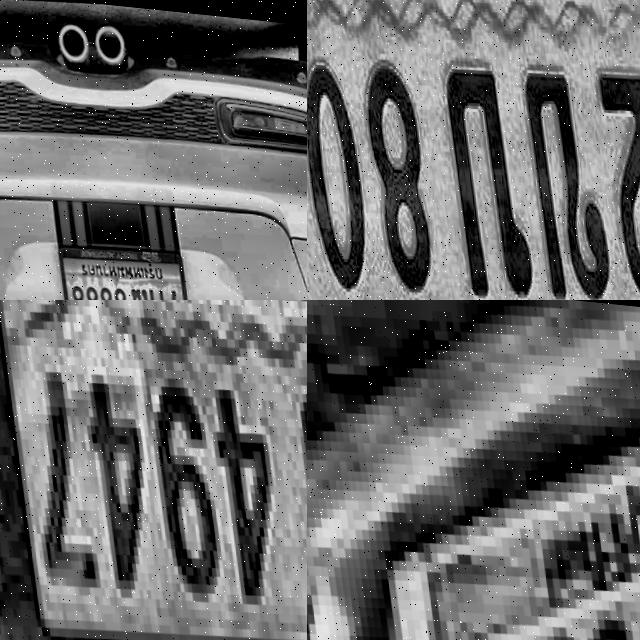license-plate: (0, 300, 307, 640), (340, 300, 640, 640), (307, 0, 640, 300), (51, 232, 185, 300)
